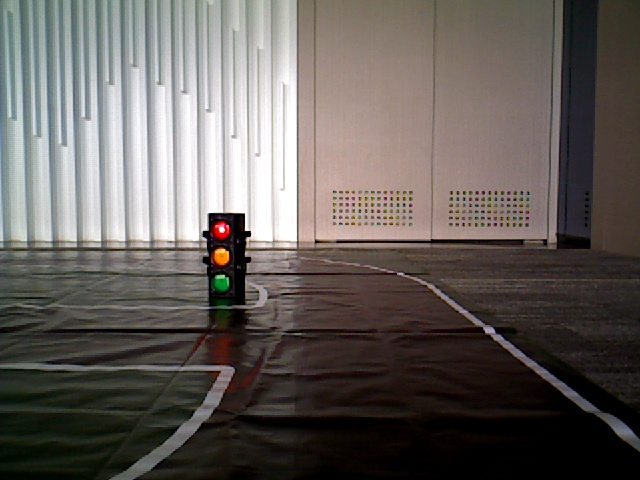red: (210, 218, 236, 296)
